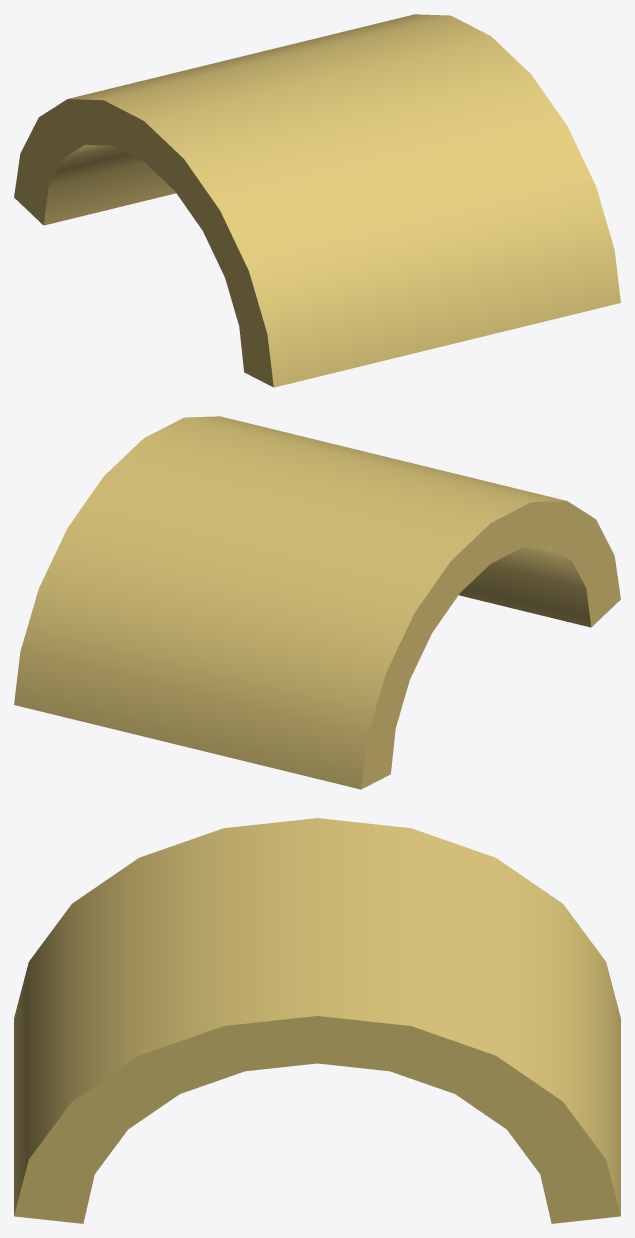
The model's file is TV_Proxy_ArchPlatform.fbx.
The picture shows the model from 3 angles, top to bottom: view 1: azimuth 30°, elevation 25°; view 2: azimuth 150°, elevation 25°; view 3: azimuth 270°, elevation 25°; orthographic projection. The views are drawn at different scales.
Parts seen in each view (by area): view 1: Arch_Platform; view 2: Arch_Platform; view 3: Arch_Platform.
Boxes of the visible parts, left/top/right/bottom form: Arch_Platform: left=14, top=14, right=620, bottom=387; Arch_Platform: left=14, top=416, right=620, bottom=789; Arch_Platform: left=14, top=818, right=620, bottom=1223.
Bounding box in the file's own units: 312 × 153 × 404.
